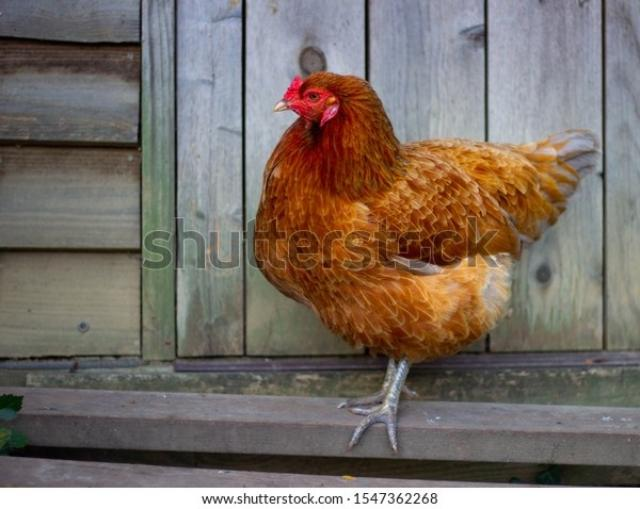Chicken: (255, 73, 600, 452)
